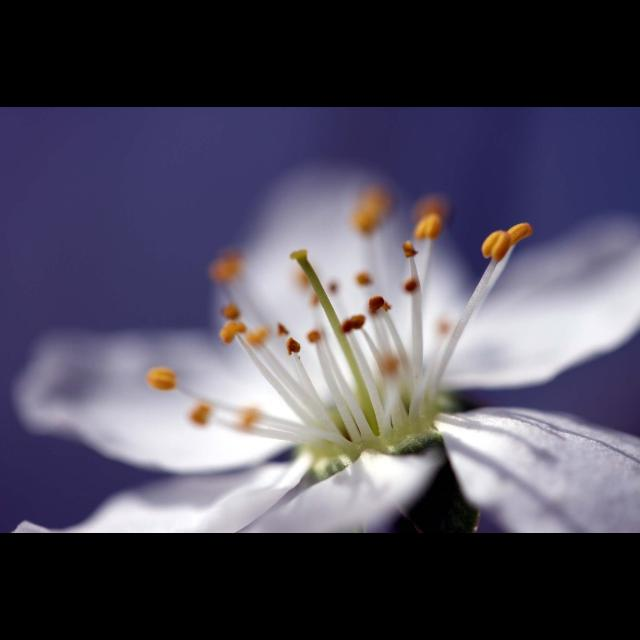Flower: (1, 164, 640, 534)
